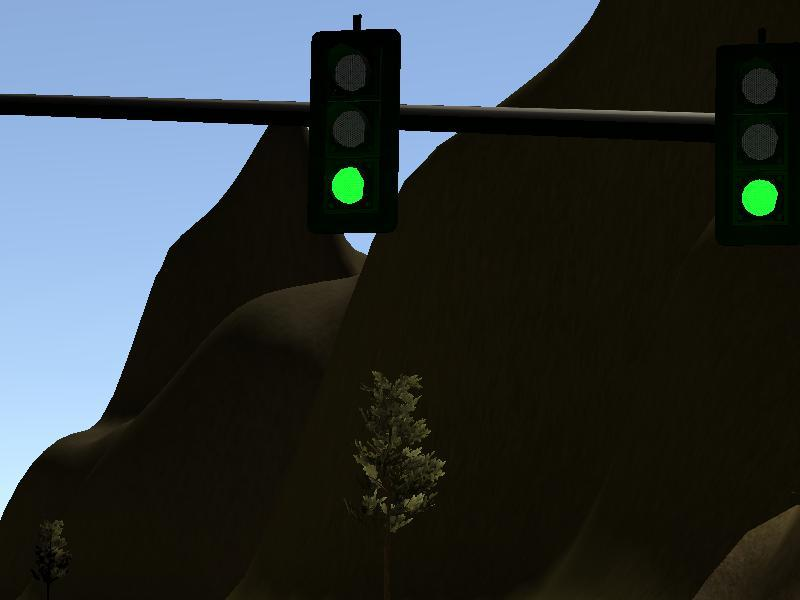Green: (312, 34, 394, 226), (715, 55, 795, 236)
